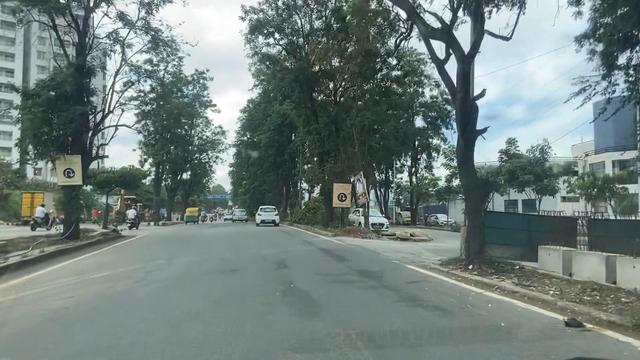LMV: (255, 204, 280, 225), (185, 207, 205, 228), (231, 207, 246, 222)
RoadDamages: (299, 237, 356, 276), (400, 292, 448, 320), (339, 327, 379, 360), (283, 285, 319, 318), (361, 265, 396, 292), (262, 254, 298, 270)
